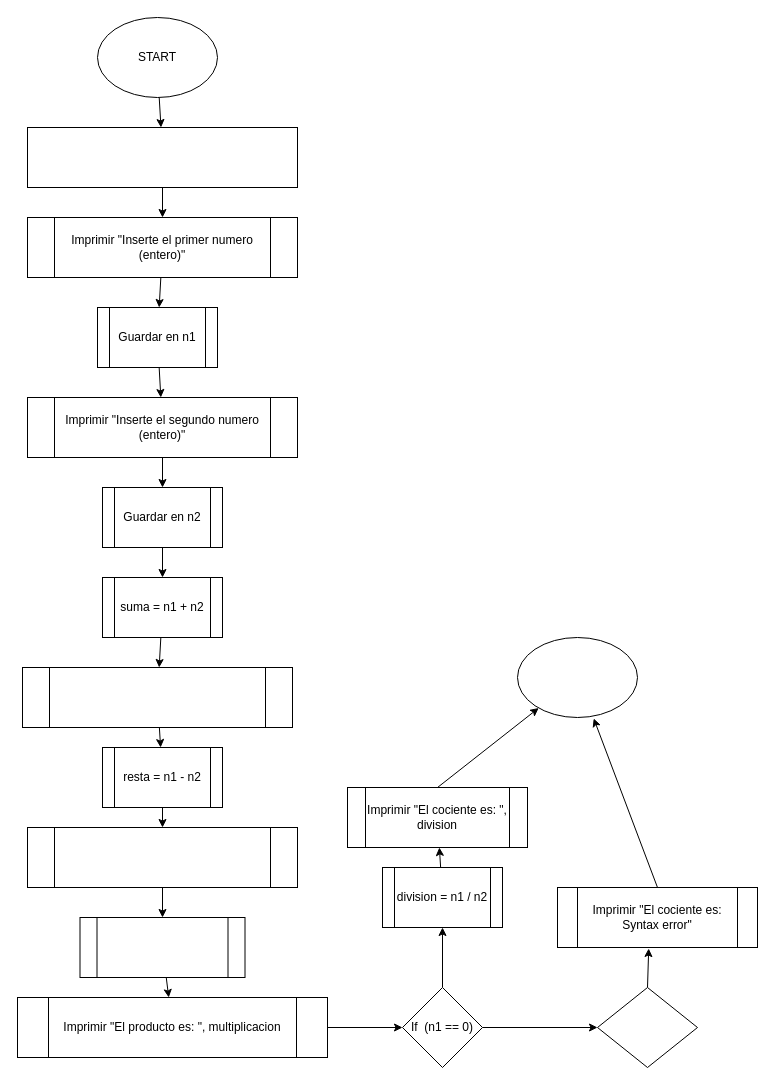
Some shapes in this 775 by 1085 pixel diagram are drawn without their labels. Here are the shapes that lost their labels. From the top down, the centre of each, then its label:
(162,157): int n1, n2, suma, resta, multiplicacion, division
(157,697): Imprimir "El resultado es: ", suma
(577,677): END
(162,857): Imprimir "La diferencia es: ", resta
(162,947): multiplicacion = n1 * n2
(647,1027): Else if (n2 == 0)
